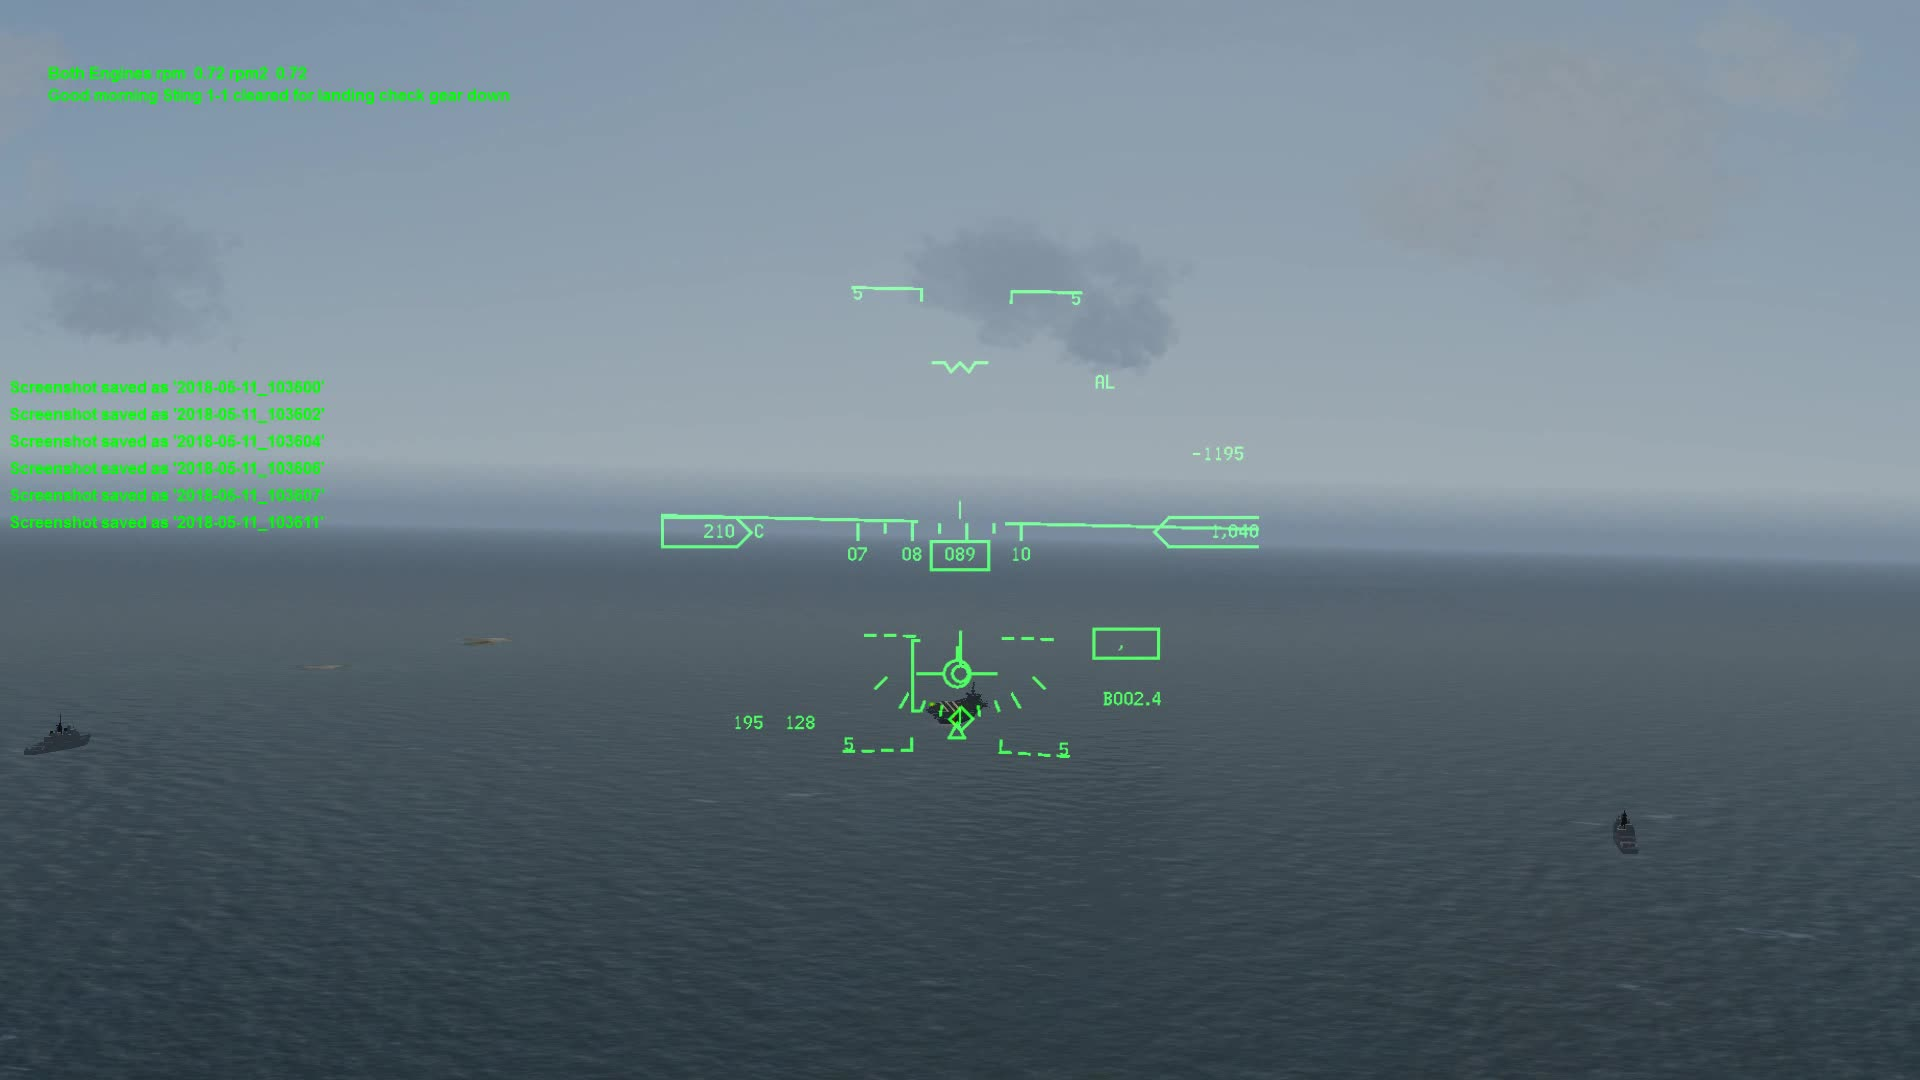speed vector: (910, 628, 1002, 688)
